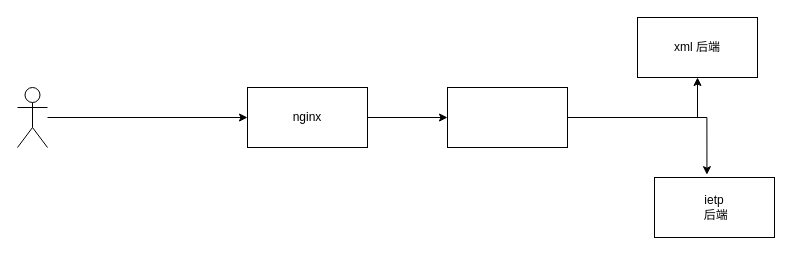
Some shapes in this 792 by 255 pixel diagram are drawn without their labels. The box of each missing label's shape, as (x1, y1, x2, y2) in pixels:
Actor: (16, 86, 48, 148)
gateway: (446, 86, 568, 148)
